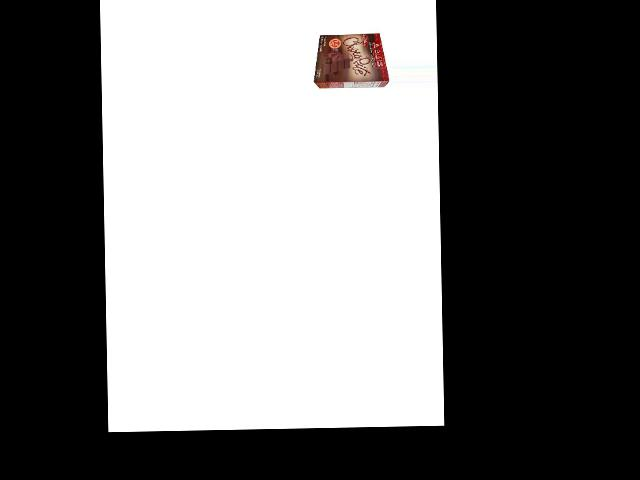chocolate: (312, 31, 387, 88)
